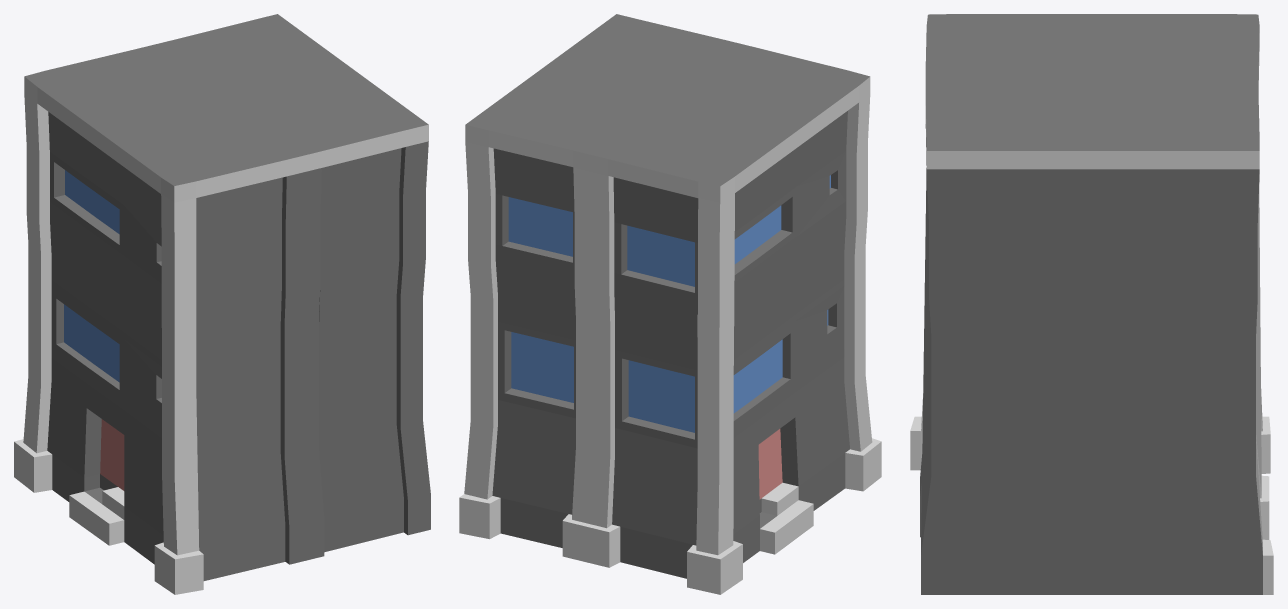
Rendered from Modelo Predio 2 andares 1.fbx.
3 views of the same model, side by side, from view 1: azimuth 30°, elevation 25°; view 2: azimuth 150°, elevation 25°; view 3: azimuth 270°, elevation 25° (orthographic). The views are drawn at different scales.
Parts seen in each view (by area): view 1: Cube; view 2: Cube; view 3: Cube.
Boxes of the visible parts, box(x1,y1,x2,y2) form: Cube: box(14, 14, 430, 594); Cube: box(459, 14, 881, 594); Cube: box(910, 14, 1273, 594).
Bounding box in the file's own units: 209 × 310 × 230.
